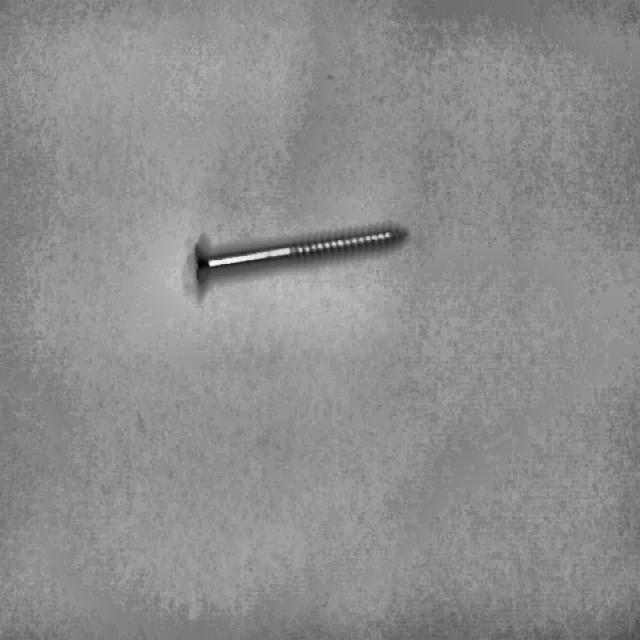Wood screw: (192, 224, 408, 305)
